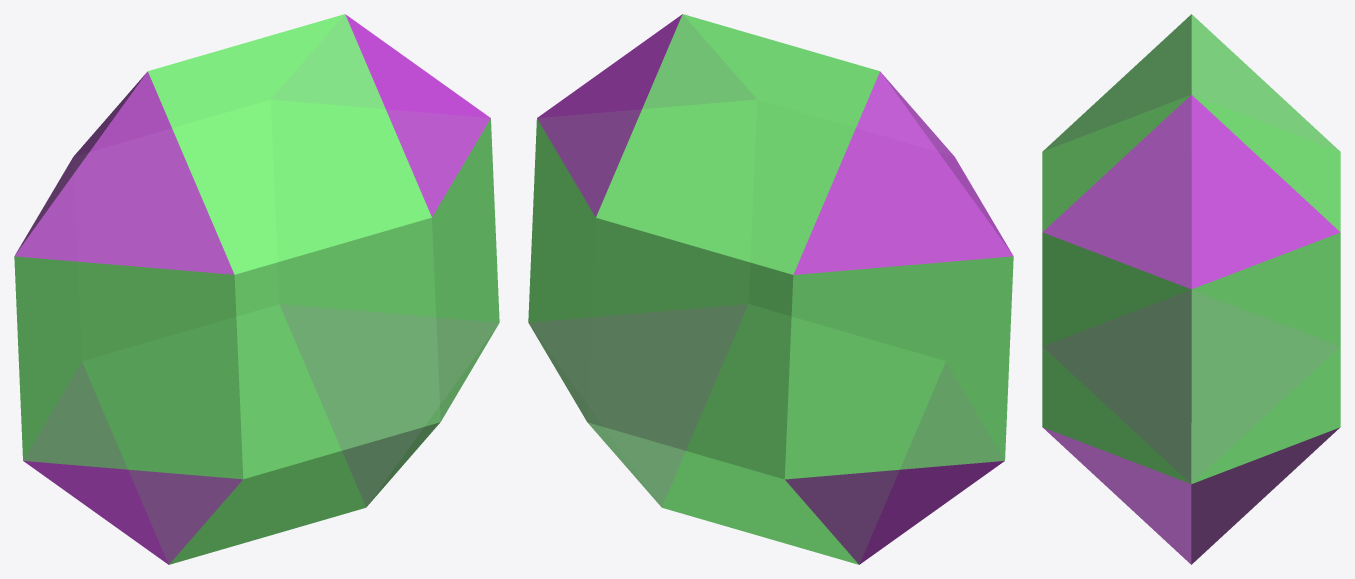
Rendered from j28_square_orthobicupola.obj.
3 views of the same model, side by side, from view 1: azimuth 30°, elevation 25°; view 2: azimuth 150°, elevation 25°; view 3: azimuth 270°, elevation 25° (orthographic). The views are drawn at different scales.
Size of the model in its own units: 2.11 by 2.11 by 1.22.
